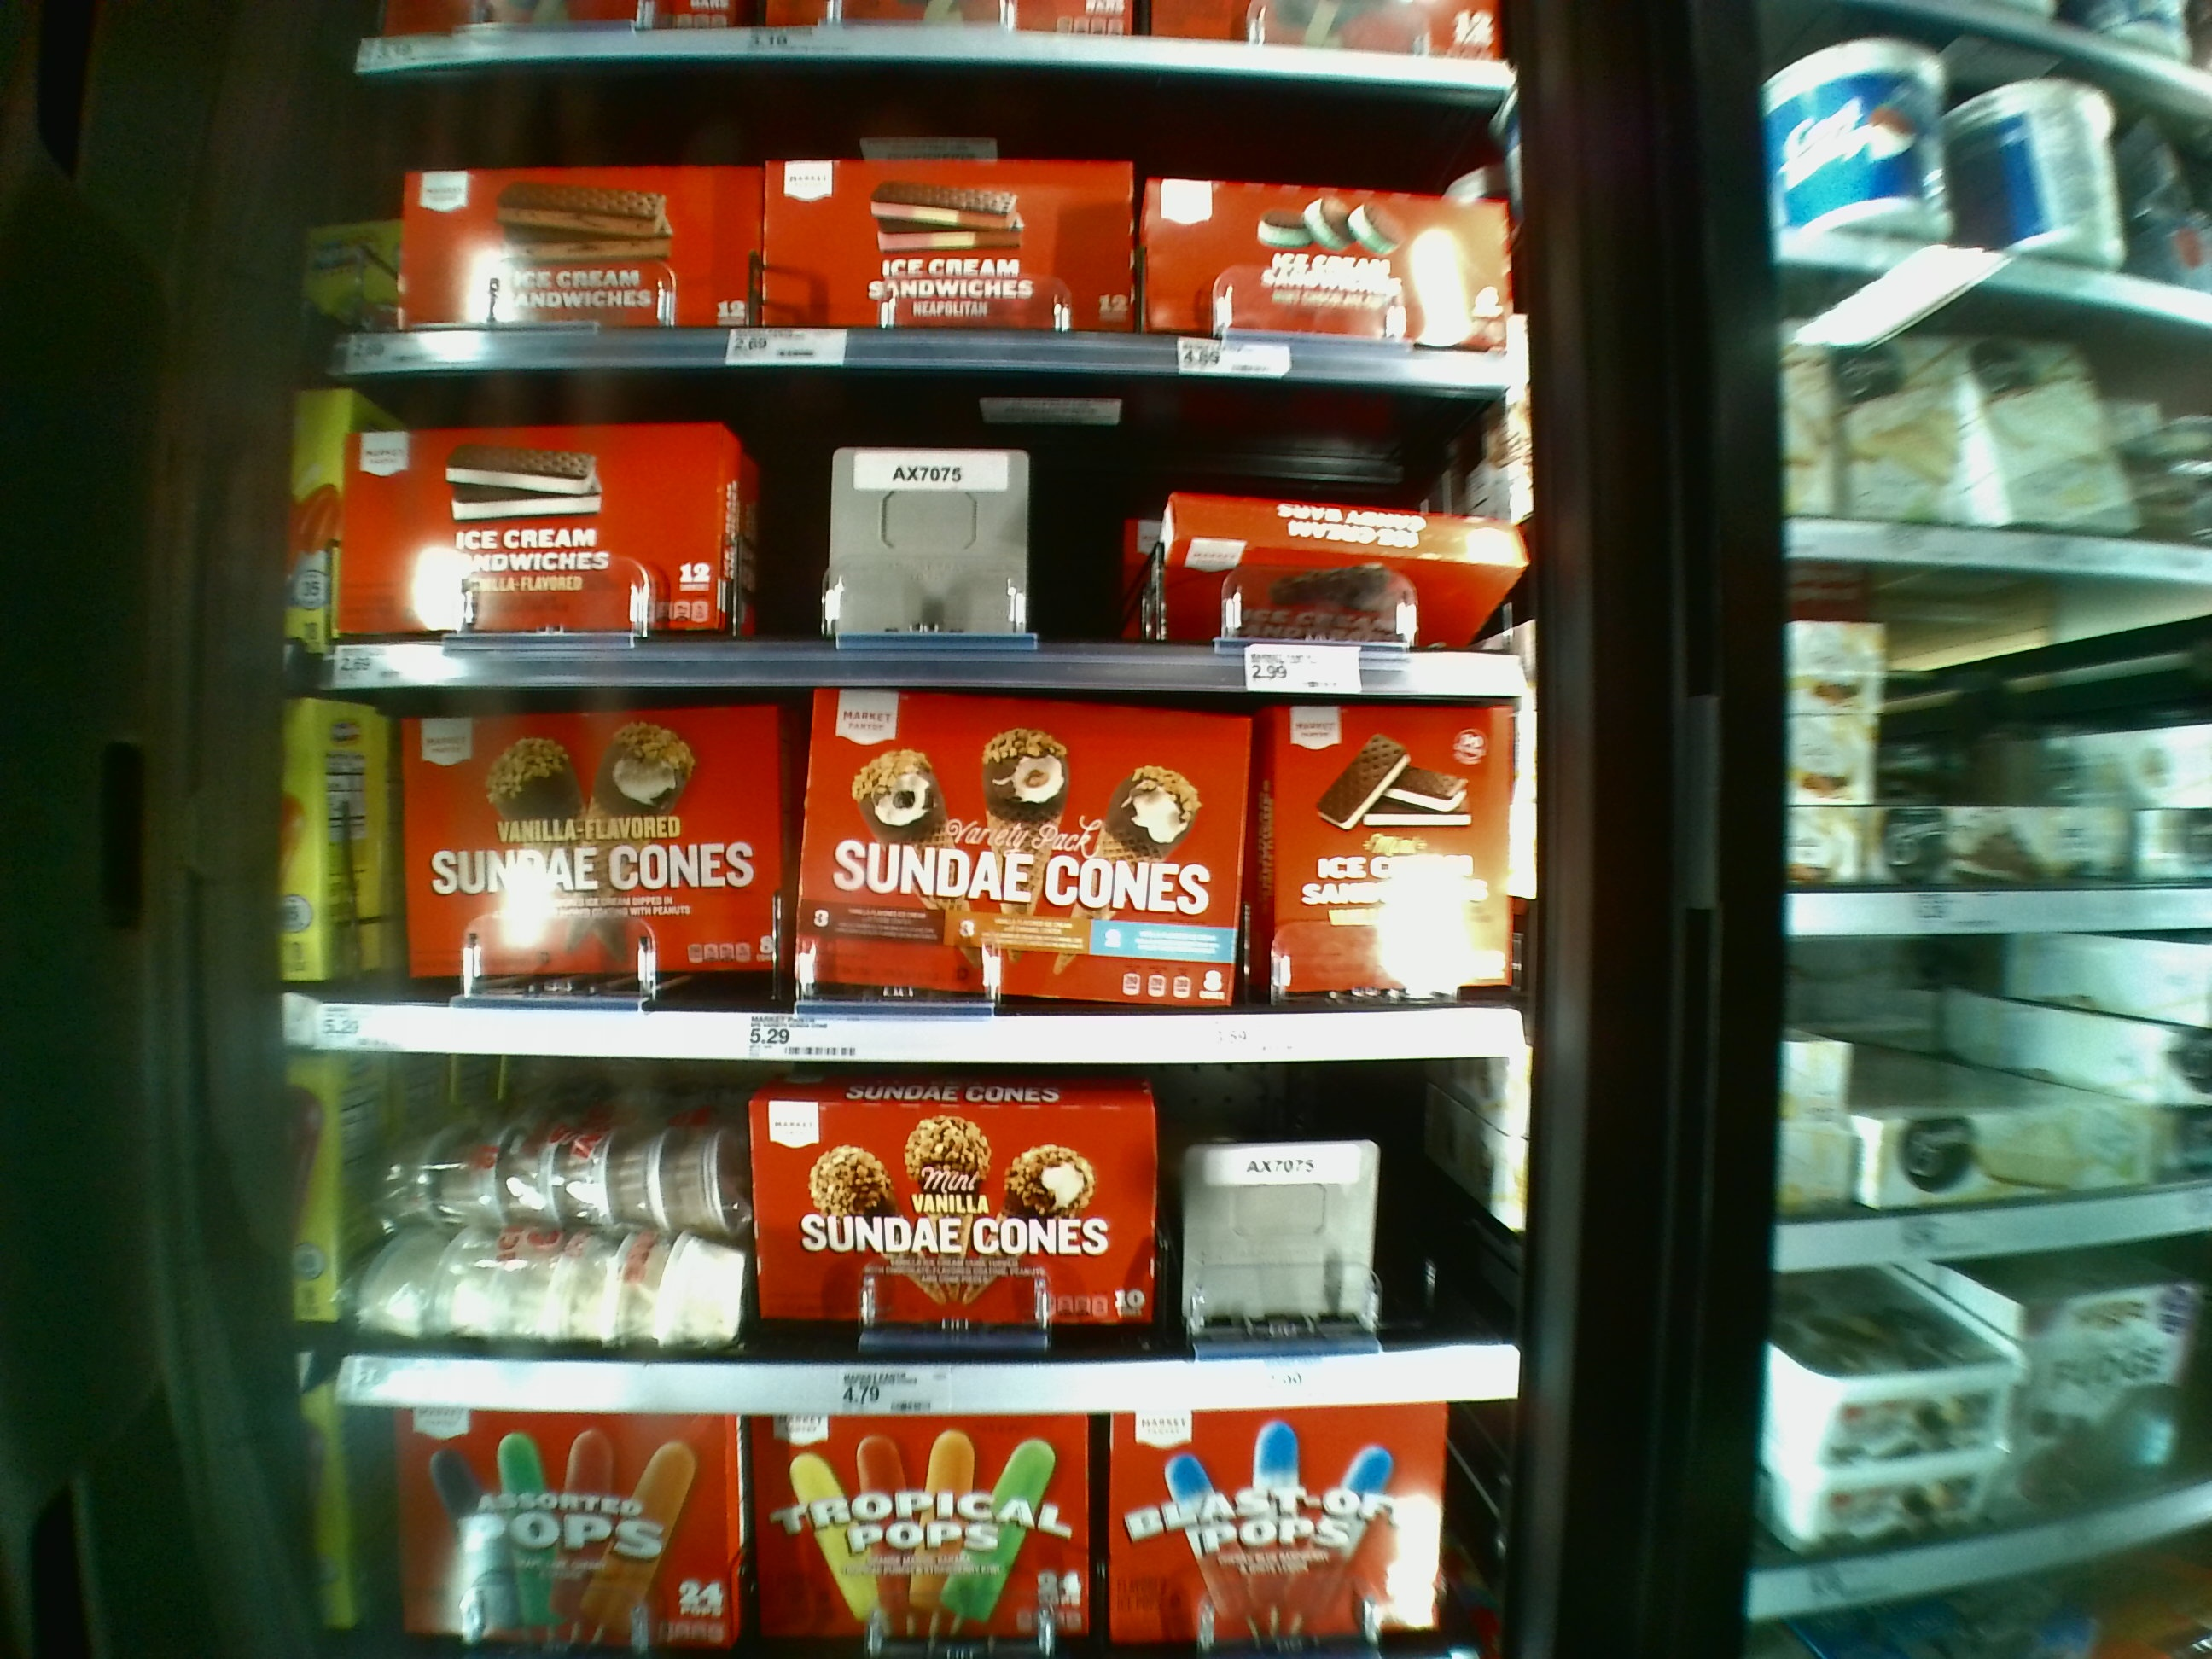shelf: (333, 704, 1541, 1079), (345, 1054, 1521, 1399), (336, 378, 1533, 701), (362, 73, 1526, 389)
